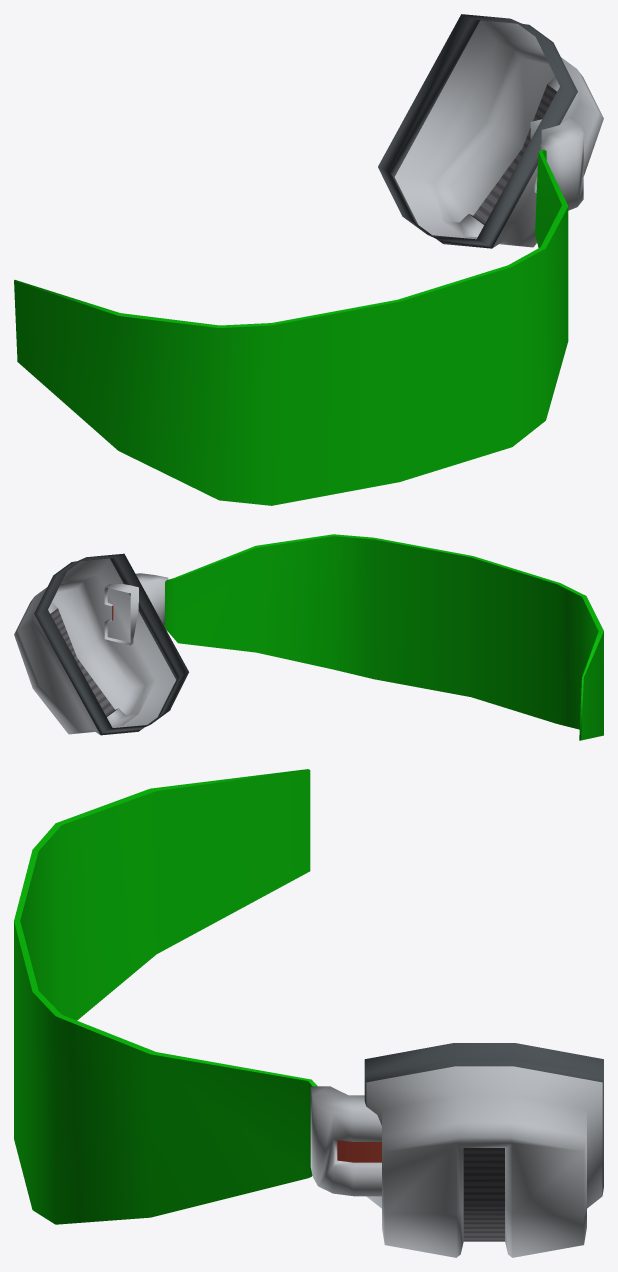
The model's file is FarSightGoggles.glb.
The picture shows the model from 3 angles, top to bottom: view 1: azimuth 30°, elevation 25°; view 2: azimuth 150°, elevation 25°; view 3: azimuth 270°, elevation 25°; orthographic projection. The views are drawn at different scales.
Parts seen in each view (by area): view 1: FarSightGoggles; view 2: FarSightGoggles; view 3: FarSightGoggles.
Part boxes in pixels (x1=…): FarSightGoggles: x1=14, y1=14, x2=603, y2=505; FarSightGoggles: x1=14, y1=534, x2=603, y2=740; FarSightGoggles: x1=14, y1=769, x2=603, y2=1257.
Size of the model in its own units: 0.1969 by 0.0699 by 0.1316.
Materials: 2 (1 with a texture image).
